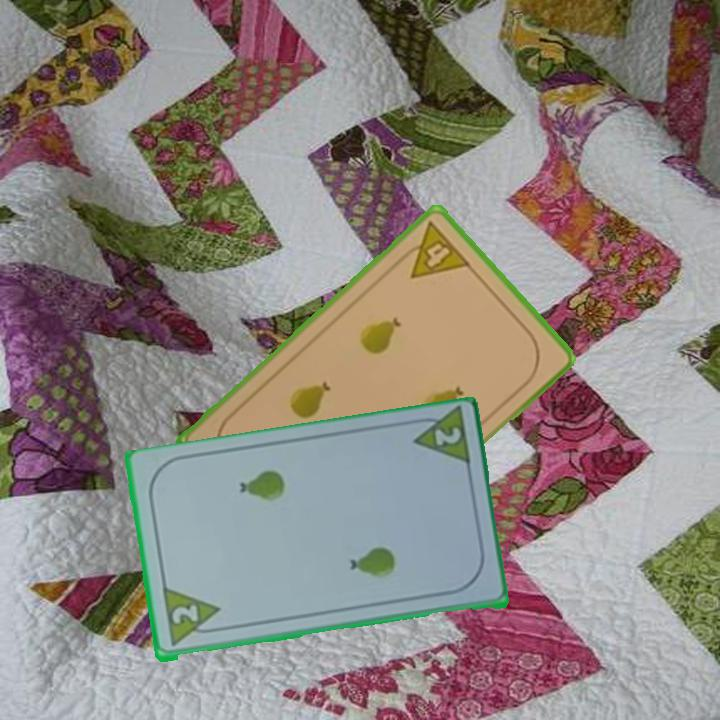2p: (159, 586, 225, 650), (430, 424, 464, 450)
4p: (393, 217, 474, 282)
